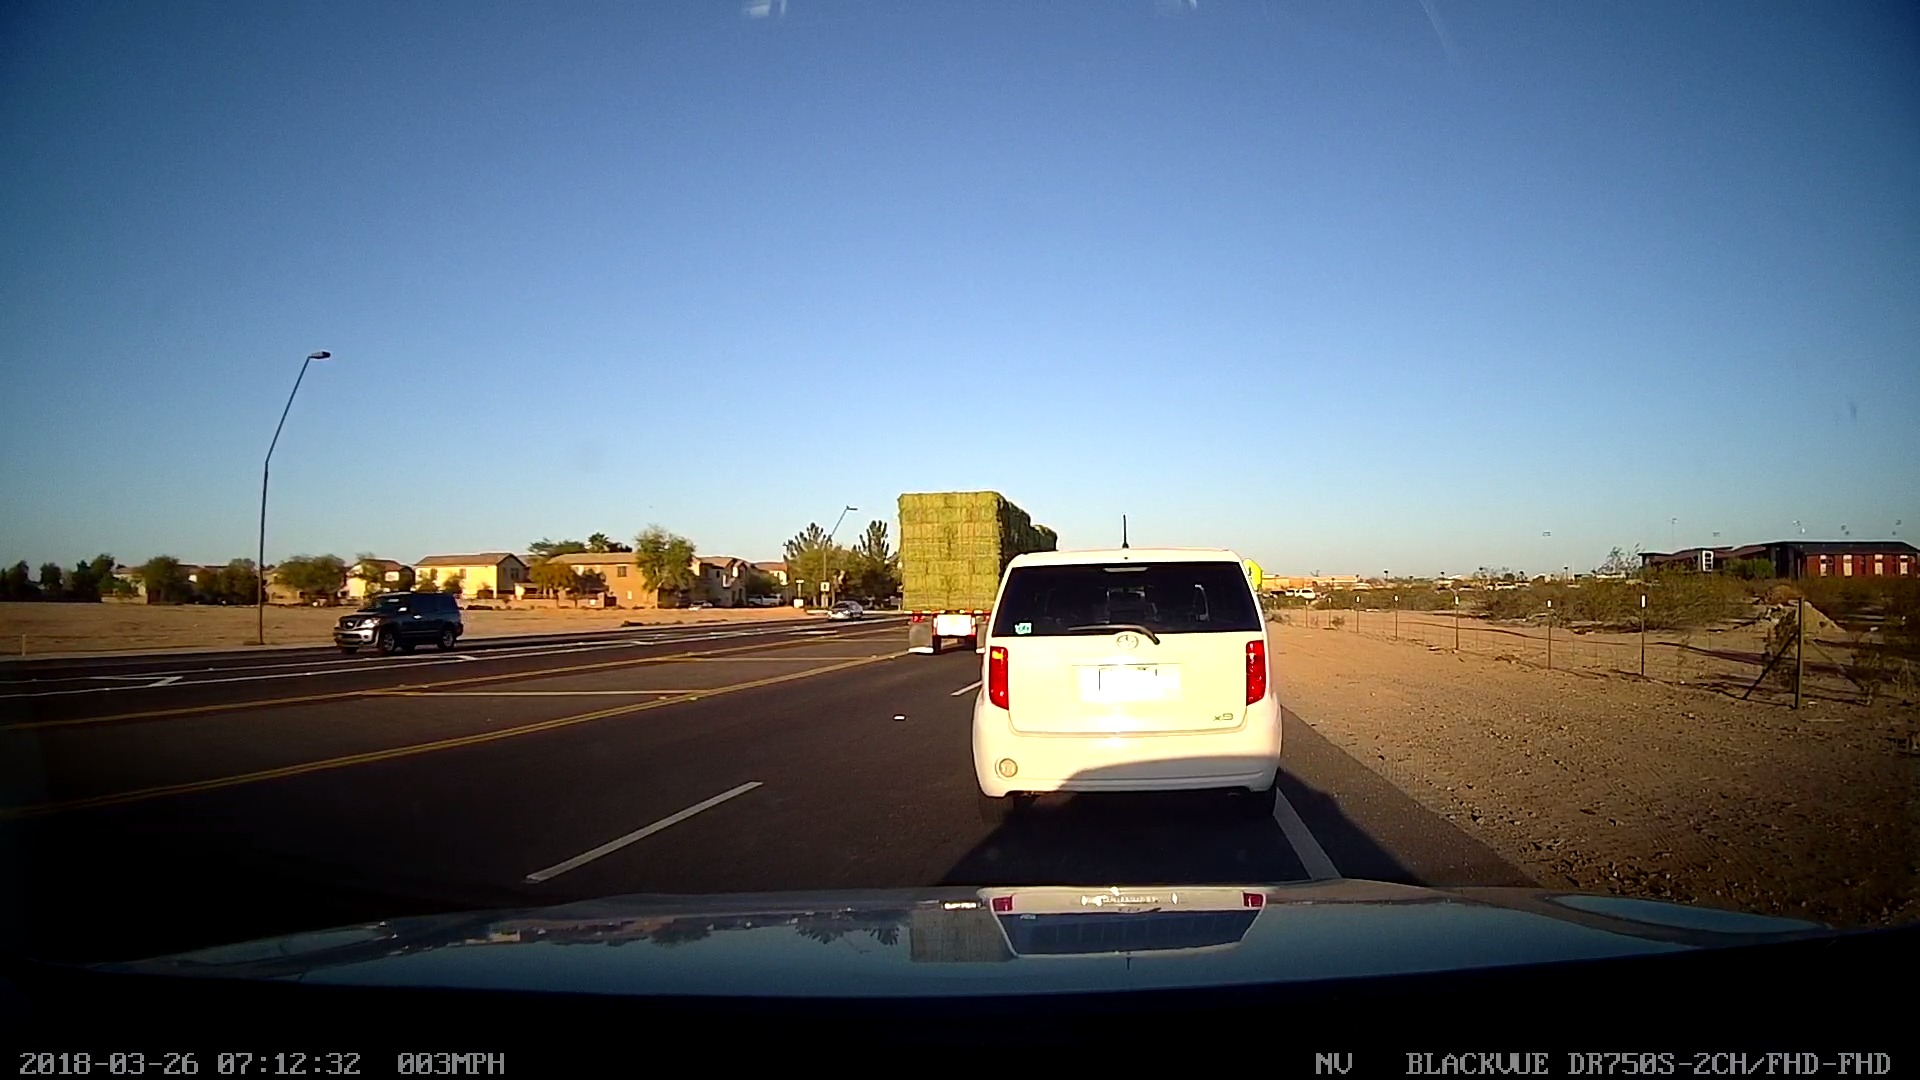plate: (1091, 658, 1161, 702)
vehicle: (971, 542, 1281, 804), (333, 586, 466, 655), (825, 594, 861, 624)
